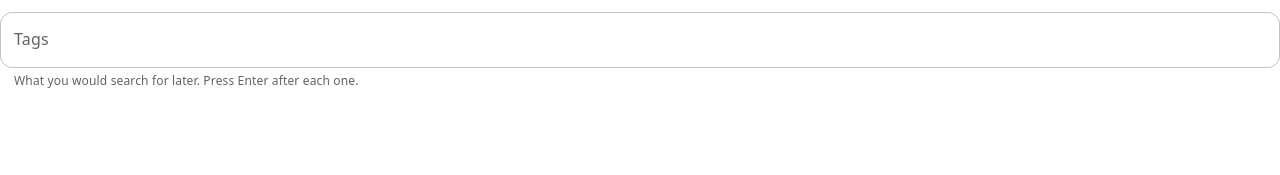
Test case: TagInput › offers what the collection already uses
Click the dropdown labelled "Tags" at (640, 40), box left=9, top=21, right=1271, bottom=59
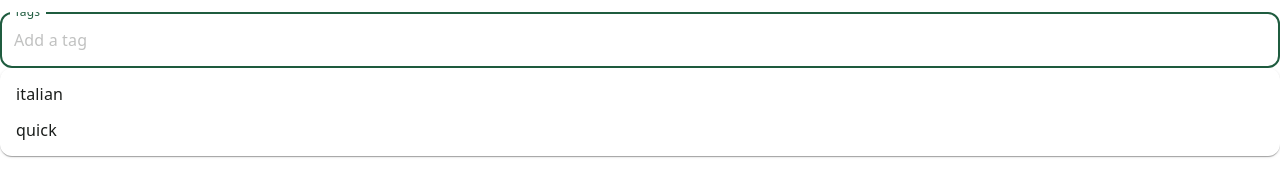
Check: the option "italian" is shown, box left=16, top=83, right=63, bottom=105
Check: the option "quick" is shown, box left=16, top=119, right=57, bottom=141
